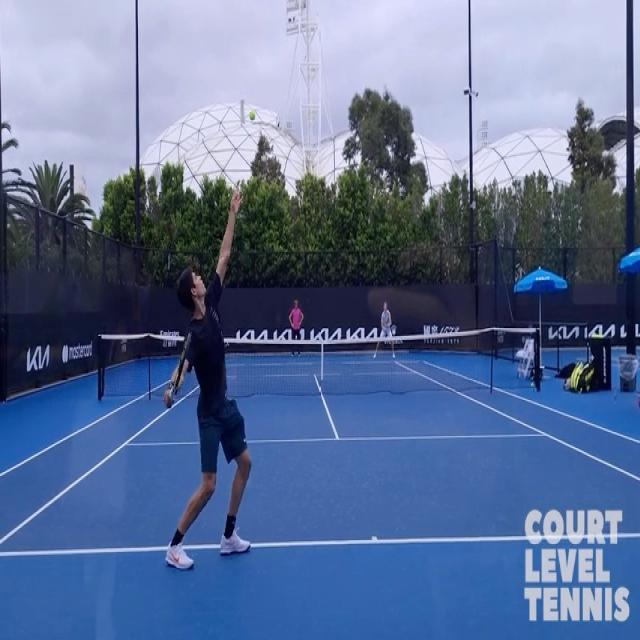serve_toss: (157, 192, 255, 568)
